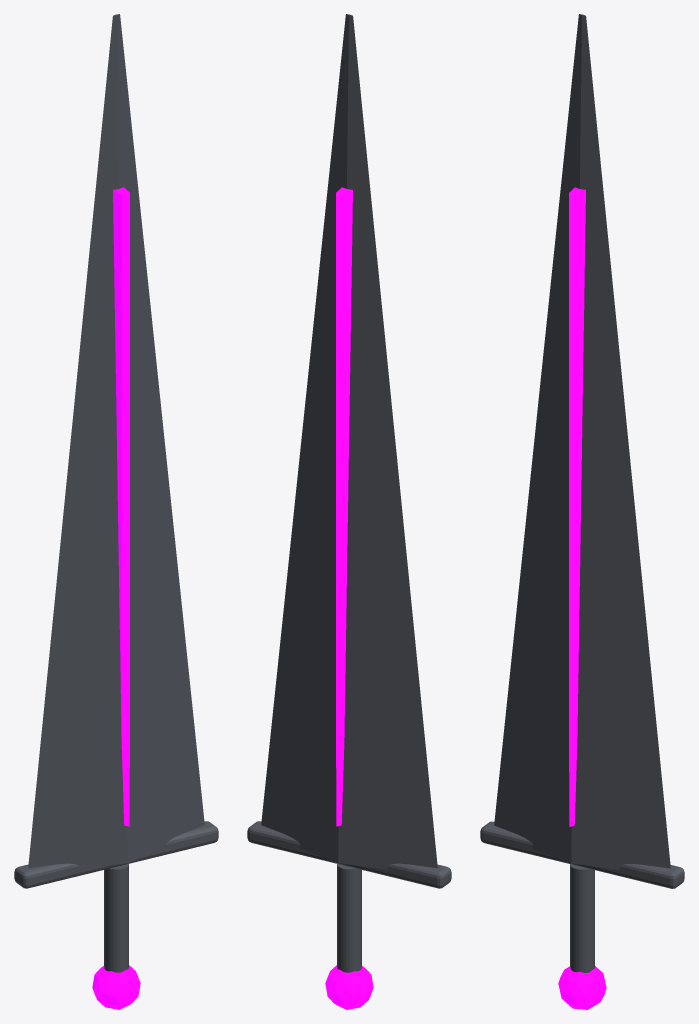
File: void_scribe_staff_7697.glb
3 renders of one model, left to right at view 1: azimuth 30°, elevation 25°; view 2: azimuth 150°, elevation 25°; view 3: azimuth 330°, elevation 25°, orthographic.
Parts seen in each view (by area): view 1: Cylinder; view 2: Cylinder; view 3: Cylinder.
Boxes of the visible parts, x1,y1,x2,y2 form: Cylinder: (14, 14, 218, 1009); Cylinder: (247, 14, 451, 1009); Cylinder: (480, 14, 684, 1009).
Bounding box in the file's own units: 0.44 × 2.13 × 0.1012.
